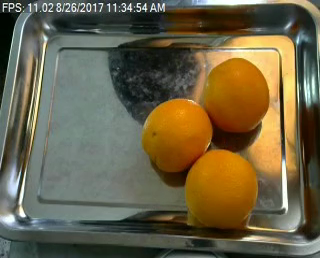Orange: (182, 148, 259, 229), (140, 98, 211, 171), (204, 56, 271, 132)
